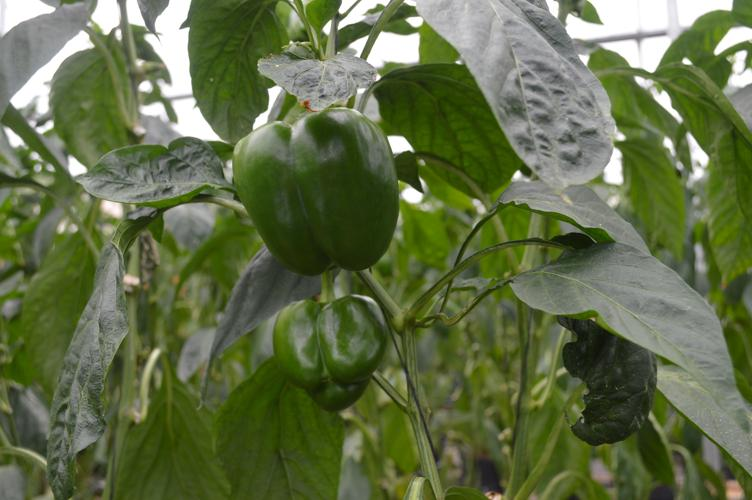BellPepper: (234, 111, 401, 273), (275, 290, 385, 403)
